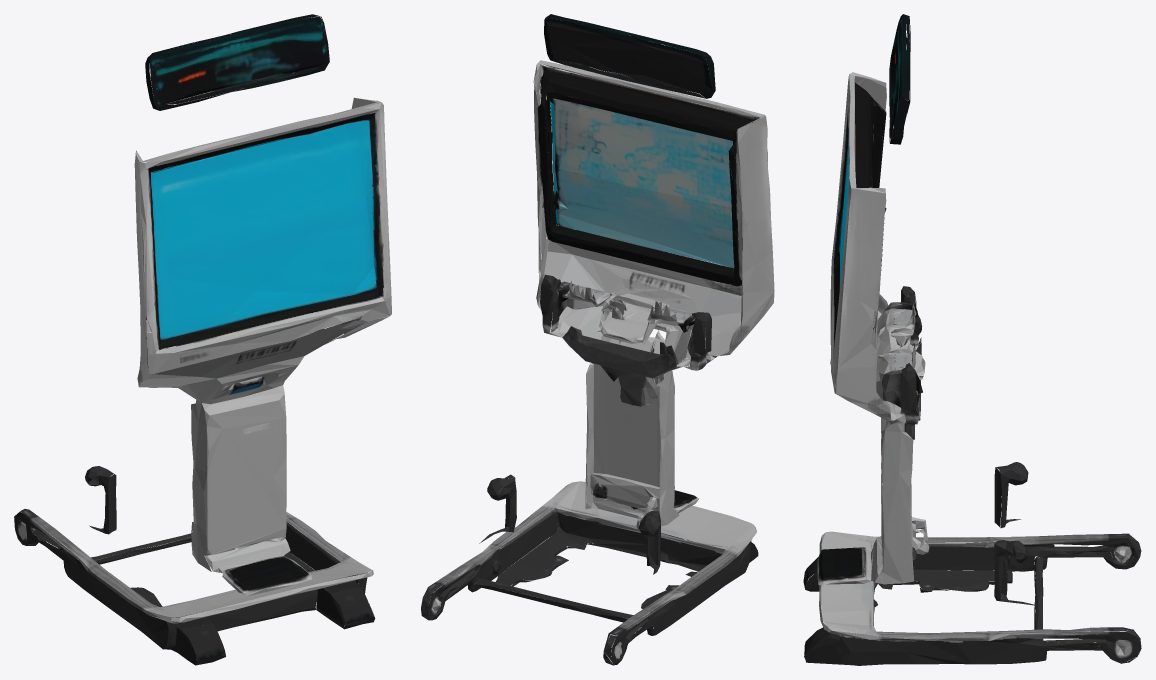
Rendered from console.glb.
The picture shows the model from 3 angles, left to right: view 1: azimuth 30°, elevation 25°; view 2: azimuth 150°, elevation 25°; view 3: azimuth 270°, elevation 25°; orthographic projection. The views are drawn at different scales.
Parts seen in each view (by area): view 1: world; view 2: world; view 3: world.
Part boxes in pixels (x1,y1,x2,y2): world: (14, 14, 391, 665); world: (421, 14, 774, 665); world: (803, 14, 1141, 665).
Size of the model in its own units: 0.4476 by 1 by 0.5415.
Materials: 1 (1 with a texture image).
